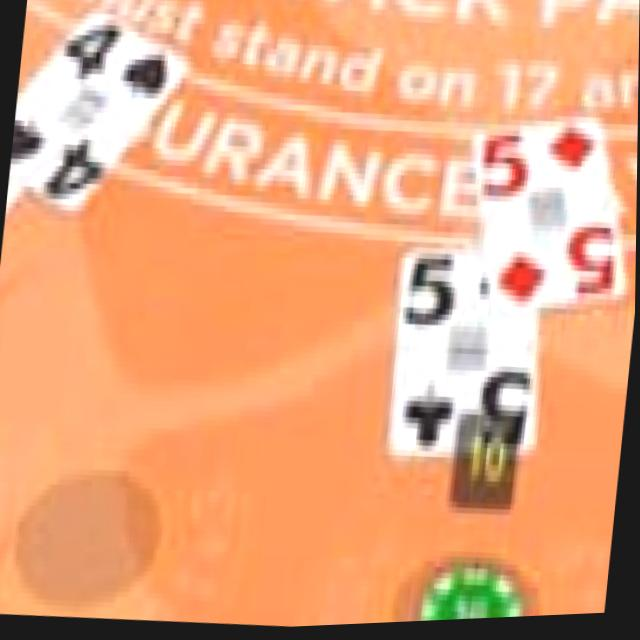Card-4: (11, 6, 192, 216)
Card-5: (387, 246, 539, 456), (476, 120, 629, 314)
